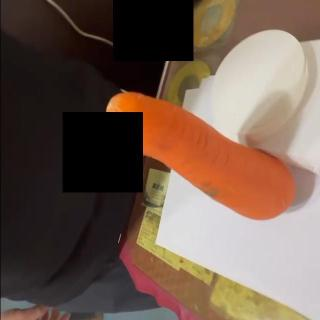carrot: (101, 91, 295, 223)
